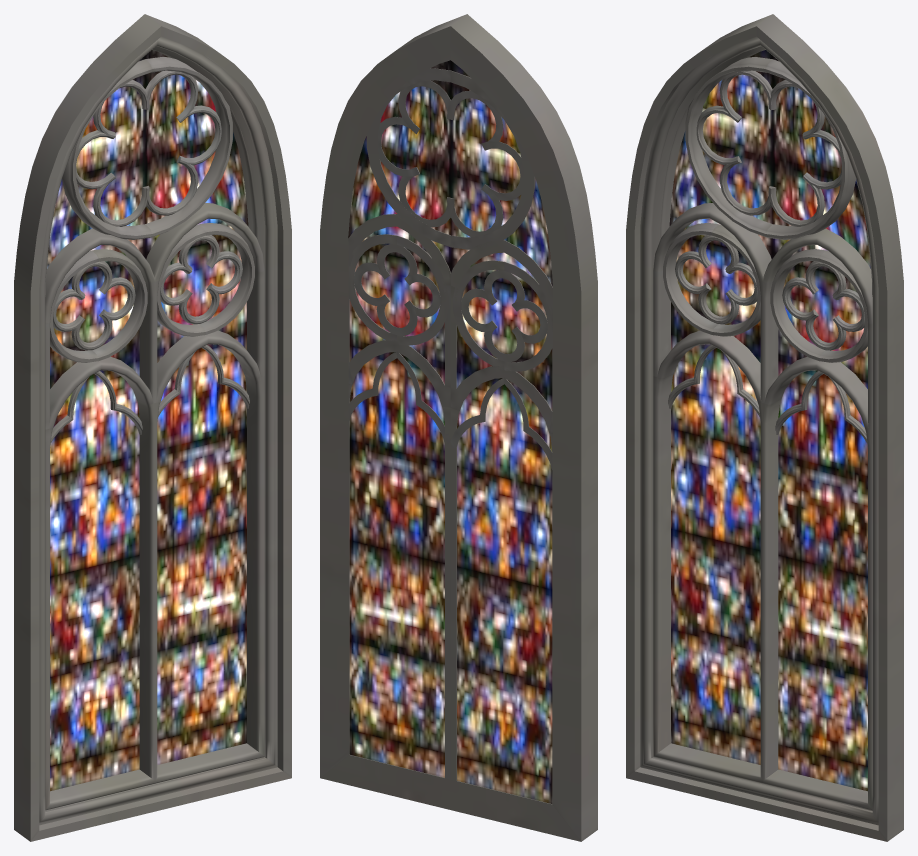
File: win2.glb
3 views of the same model, side by side, from view 1: azimuth 30°, elevation 25°; view 2: azimuth 150°, elevation 25°; view 3: azimuth 330°, elevation 25° (orthographic).
Visible parts, largest first — view 1: window_profile_gothic_window_0, window_colored_window_colored_0; view 2: window_colored_window_colored_0, window_profile_gothic_window_0; view 3: window_profile_gothic_window_0, window_colored_window_colored_0.
Boxes of the visible parts, x1=… form: window_profile_gothic_window_0: x1=14, y1=14, x2=291, y2=841; window_colored_window_colored_0: x1=47, y1=50, x2=248, y2=791; window_colored_window_colored_0: x1=348, y1=60, x2=552, y2=803; window_profile_gothic_window_0: x1=320, y1=14, x2=597, y2=841; window_profile_gothic_window_0: x1=626, y1=14, x2=903, y2=841; window_colored_window_colored_0: x1=669, y1=50, x2=870, y2=791.
Size of the model in its own units: 2.31 by 6.63 by 0.2575.
2 materials, 2 textured.
